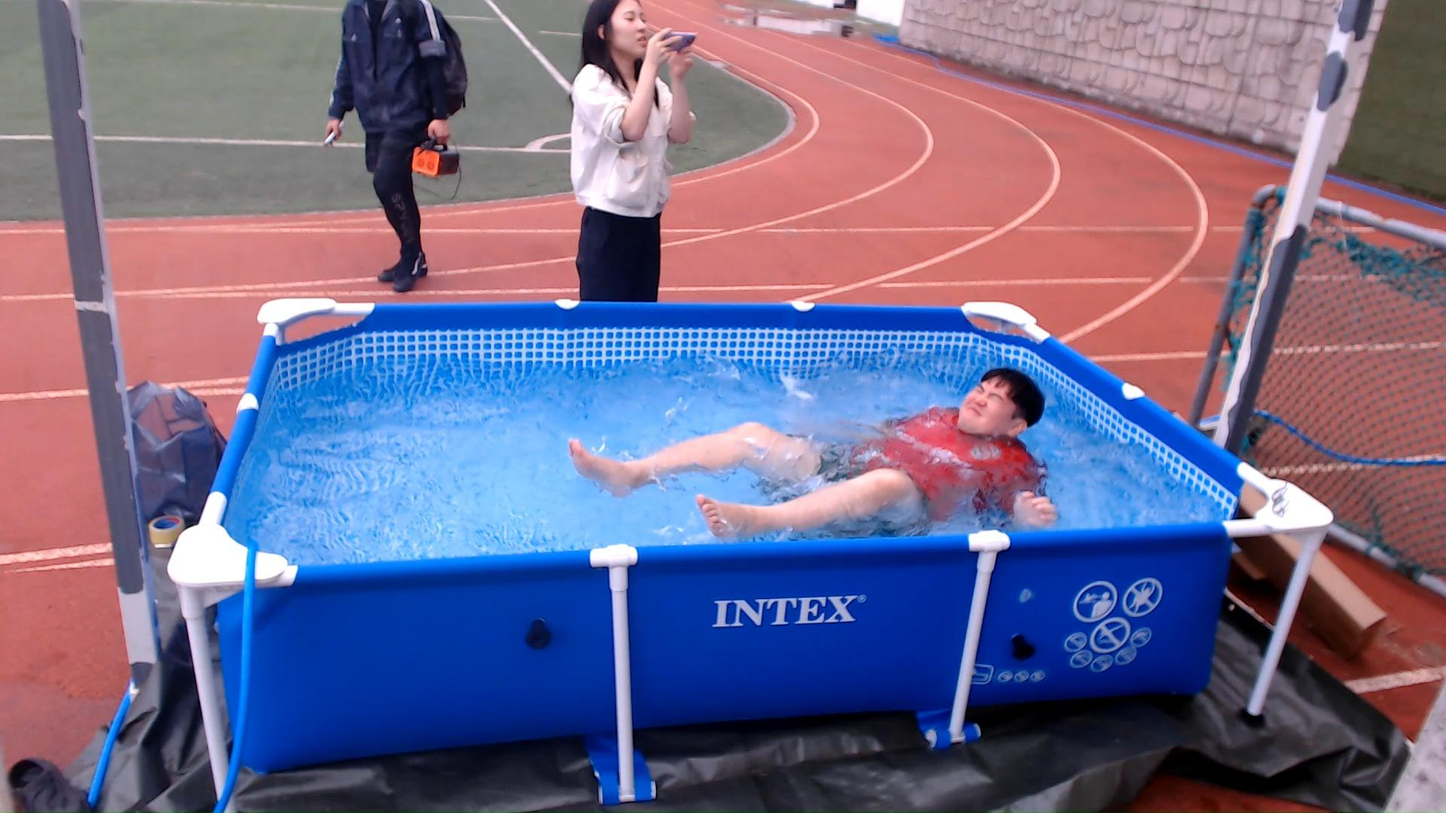Drowning: (529, 336, 1091, 559)
Person-out-of-water: (315, 0, 469, 304), (583, 0, 714, 316)
